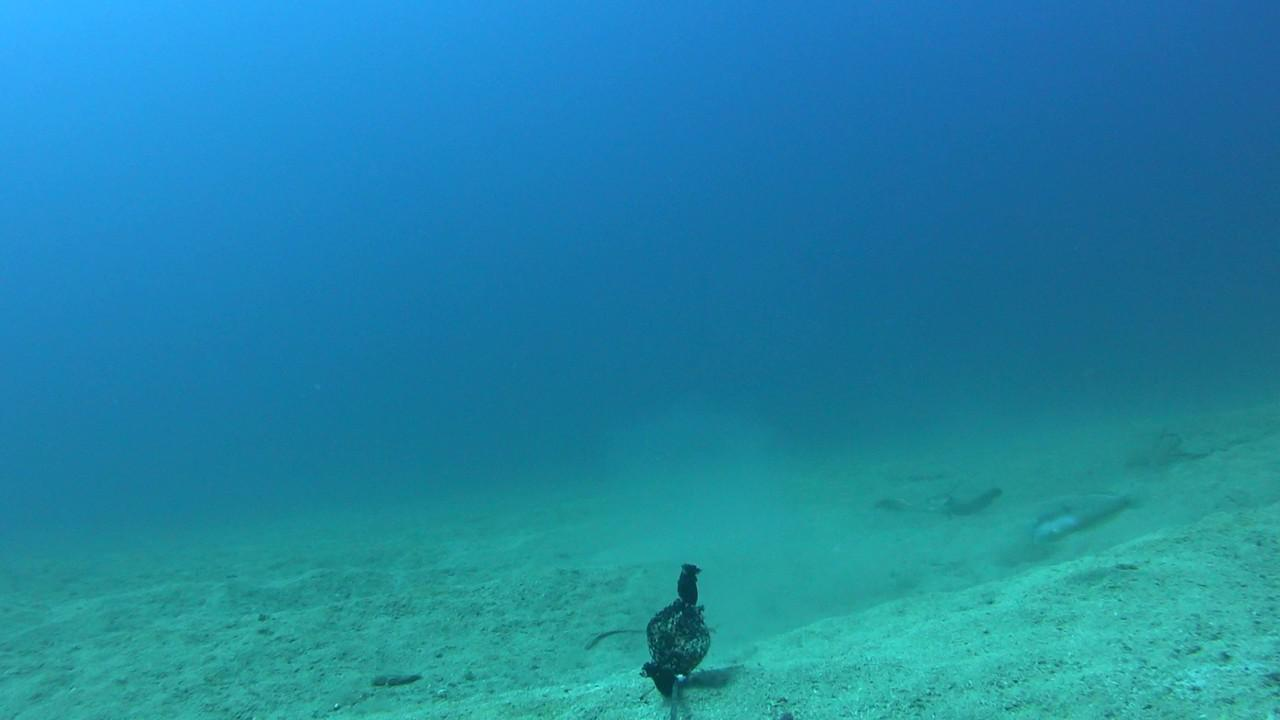myliobatis: (872, 478, 1018, 525)
raor: (1030, 491, 1142, 538)
